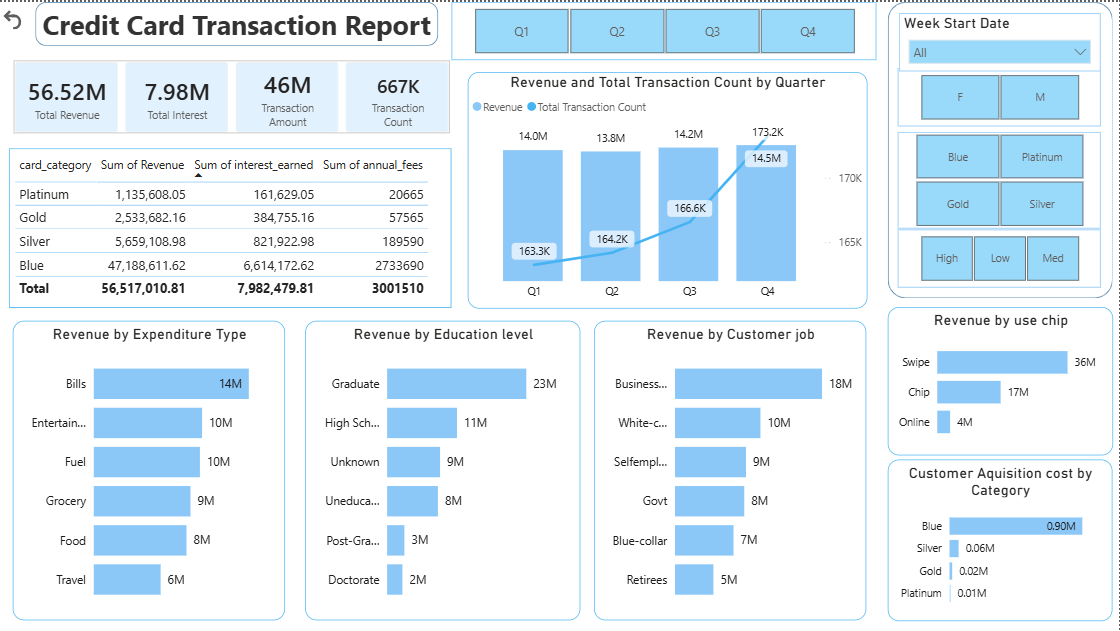

What the dashboard file says about the page in this screenshot:
{"tool":"powerbi","page":{"name":"Page 1","canvas":[1280,720],"ordinal":0},"visuals":[{"type":"shape","box":[1015.7,0,257.1,338.6],"z":0},{"type":"shape","box":[41.3,0,460.5,50.2],"z":1000},{"type":"cardVisual","fields":{"Data":["Sum(public cc_detail.Revenue)","Sum(public cc_detail.interest_earned)","Sum(public cc_detail.total_trans_amt)","Sum(public cc_detail.total_trans_ct)"]},"box":[0,50.3,535.2,117.5],"z":2000},{"type":"tableEx","fields":{"Values":["public cc_detail.card_category","Sum(public cc_detail.Revenue)","Sum(public cc_detail.interest_earned)","Sum(public cc_detail.annual_fees)"]},"box":[11.2,167.8,505.4,182.8],"z":3000},{"type":"clusteredBarChart","title":" Revenue by Expenditure Type","fields":{"Category":["public cc_detail.exp_type"],"Y":["Sum(public cc_detail.Revenue)"]},"box":[16.2,364.6,311.4,342.4],"z":4000},{"type":"clusteredBarChart","title":"Revenue by Education level","fields":{"Y":["Sum(public cc_detail.Revenue)"],"Category":["public cust_detail.education_level"]},"box":[349.8,364.6,314.4,342.4],"z":5000},{"type":"clusteredBarChart","title":"Revenue by Customer job","fields":{"Y":["Sum(public cc_detail.Revenue)"],"Category":["public cust_detail.customer_job"]},"box":[680.4,364.6,311.4,342.4],"z":6000},{"type":"lineStackedColumnComboChart","title":"Revenue and Total Transaction Count by Quarter","fields":{"Category":["public cc_detail.qtr"],"Y":["Sum(public cc_detail.Revenue)"],"Y2":["Sum(public cc_detail.total_trans_ct)"]},"box":[535.2,80.2,456.9,270.4],"z":7000},{"type":"slicer","fields":{"Values":["public cc_detail.qtr"]},"box":[516.6,0,485.6,66.4],"z":8000},{"type":"slicer","fields":{"Values":["public cust_detail.gender"]},"box":[1027.3,75.3,231.7,66.4],"z":9000},{"type":"slicer","fields":{"Values":["public cc_detail.card_category"]},"box":[1027.3,149.1,231.7,110.7],"z":10000},{"type":"slicer","title":"Week Start Date","fields":{"Values":["public cc_detail.week_start_date"]},"box":[1028.8,13.3,230.3,66.4],"z":11000},{"type":"slicer","fields":{"Values":["public cust_detail.IncomeGroup"]},"box":[1027.3,259.8,231.7,66.4],"z":12000},{"type":"clusteredBarChart","title":"Customer Aquisition cost by Category","fields":{"Category":["public cc_detail.card_category"],"Y":["Sum(public cc_detail.customer_acq_cost)"]},"box":[1015.5,522.5,256.8,184.5],"z":13000},{"type":"clusteredBarChart","title":"Revenue by use chip","fields":{"Y":["Sum(public cc_detail.Revenue)"],"Category":["public cc_detail.use_chip"]},"box":[1016.3,348.7,257.3,169.7],"z":14000},{"type":"actionButton","box":[0,0,31,39.9],"z":15000}]}

Visuals, with their boxes in screenshot pixels (x1, y1, x2, y2), scaled from the page's 1280x720 canvas onto the 1120x631 screenshot:
shape: <bbox>889, 0, 1114, 297</bbox>
shape: <bbox>36, 0, 439, 44</bbox>
cardVisual - Sum(public cc_detail.Revenue) x Sum(public cc_detail.interest_earned): <bbox>0, 44, 468, 147</bbox>
tableEx - public cc_detail.card_category x Sum(public cc_detail.Revenue): <bbox>10, 147, 452, 307</bbox>
" Revenue by Expenditure Type" clusteredBarChart: <bbox>14, 320, 287, 620</bbox>
"Revenue by Education level" clusteredBarChart: <bbox>306, 320, 581, 620</bbox>
"Revenue by Customer job" clusteredBarChart: <bbox>595, 320, 868, 620</bbox>
"Revenue and Total Transaction Count by Quarter" lineStackedColumnComboChart: <bbox>468, 70, 868, 307</bbox>
slicer - public cc_detail.qtr: <bbox>452, 0, 877, 58</bbox>
slicer - public cust_detail.gender: <bbox>899, 66, 1102, 124</bbox>
slicer - public cc_detail.card_category: <bbox>899, 131, 1102, 228</bbox>
"Week Start Date" slicer: <bbox>900, 12, 1102, 70</bbox>
slicer - public cust_detail.IncomeGroup: <bbox>899, 228, 1102, 286</bbox>
"Customer Aquisition cost by Category" clusteredBarChart: <bbox>889, 458, 1113, 620</bbox>
"Revenue by use chip" clusteredBarChart: <bbox>889, 306, 1114, 454</bbox>
actionButton: <bbox>0, 0, 27, 35</bbox>
